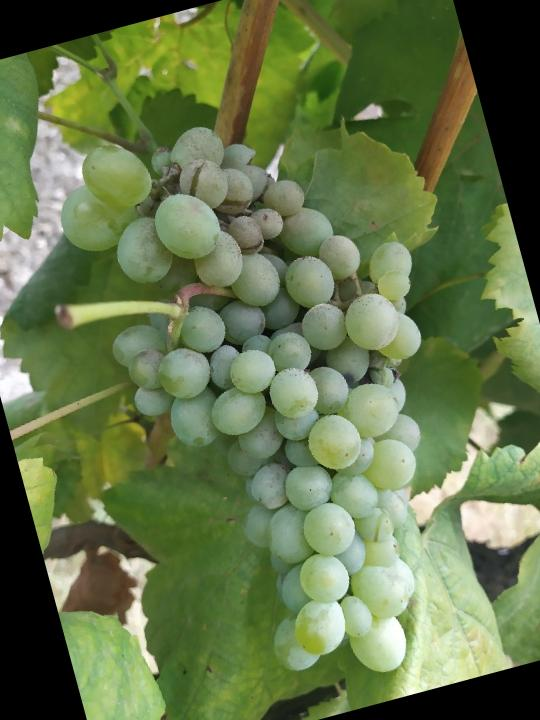grape: (40, 72, 517, 720)
